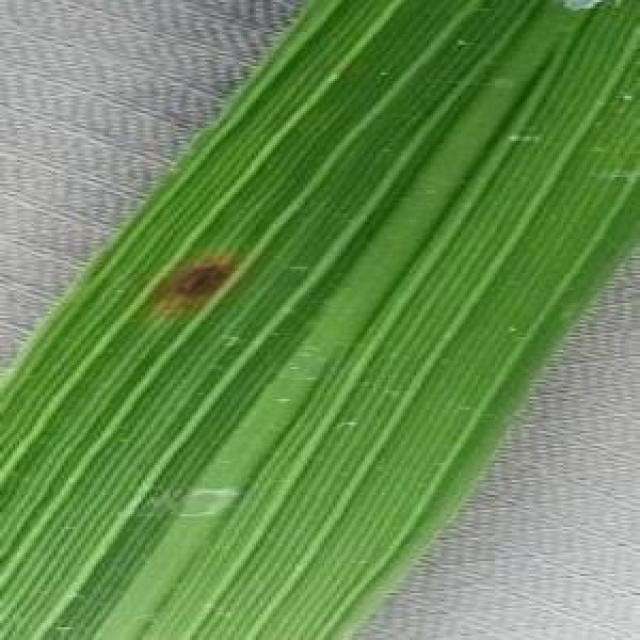brownspots: (152, 250, 226, 308)
